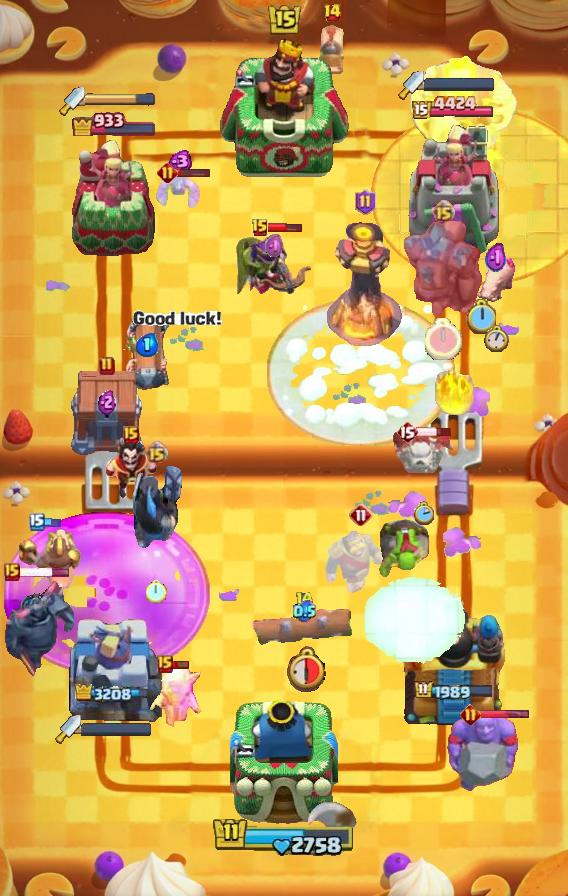archer-queen: (444, 711, 522, 793)
bar: (406, 122, 500, 256), (66, 611, 162, 731), (70, 138, 158, 256)
bar-level: (376, 518, 430, 580)
barbarian: (153, 172, 205, 210)
barbarian-hut: (233, 233, 317, 305)
battle-healer: (123, 315, 171, 395)
bomb: (68, 371, 146, 457)
cannoneer-tower: (401, 221, 485, 319)
clock: (212, 816, 356, 858)
electro-dragon: (326, 220, 404, 346)
electro-spirit: (485, 241, 507, 274), (165, 151, 193, 174), (136, 333, 159, 357), (292, 601, 315, 624), (265, 233, 285, 259), (98, 389, 116, 416)
elixir: (282, 645, 325, 692), (425, 318, 462, 360), (466, 299, 496, 334), (483, 325, 508, 353), (414, 501, 435, 525), (146, 579, 167, 603)
emote: (478, 708, 530, 720), (18, 567, 71, 578), (416, 426, 453, 438), (268, 222, 304, 234), (176, 166, 211, 177), (170, 658, 190, 669), (42, 516, 61, 527)
executioner: (316, 24, 348, 78)
firecracker: (324, 531, 398, 593)
freeze: (15, 525, 84, 597)
giant: (475, 254, 517, 306)
giant-skeleton: (408, 55, 518, 149)
golemite: (0, 577, 74, 679)
inferno-dragon: (126, 462, 186, 556)
king-tower: (218, 37, 350, 181), (230, 698, 338, 826)
king-tower-bar: (424, 77, 496, 91), (81, 722, 153, 736), (85, 93, 155, 107)
knight-evolution: (4, 512, 210, 675)
lumberjack: (103, 441, 159, 501)
mega-knight: (361, 575, 467, 668)
mini-pekka: (390, 429, 456, 475)
minion: (251, 604, 357, 650)
phoenix-big: (267, 298, 455, 446)
phoenix-egg: (370, 106, 568, 286)
poison: (135, 662, 219, 734)
royal-giant: (304, 801, 360, 855)
selected: (70, 109, 157, 136), (411, 95, 495, 122), (414, 680, 495, 702), (74, 684, 154, 705)
text: (349, 503, 373, 527), (432, 200, 455, 224), (355, 189, 376, 215), (145, 440, 168, 463), (396, 420, 418, 444), (460, 703, 481, 725), (158, 161, 179, 182), (322, 3, 342, 23), (251, 218, 269, 238), (294, 591, 313, 609), (99, 356, 115, 376), (123, 426, 139, 444), (29, 513, 45, 531), (4, 563, 20, 581), (157, 655, 173, 673)
tower-bar: (397, 595, 509, 731)
valkyrie: (431, 366, 479, 418)
